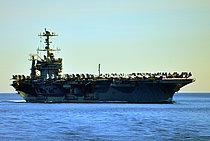MIL_Ship: (10, 26, 196, 105)
